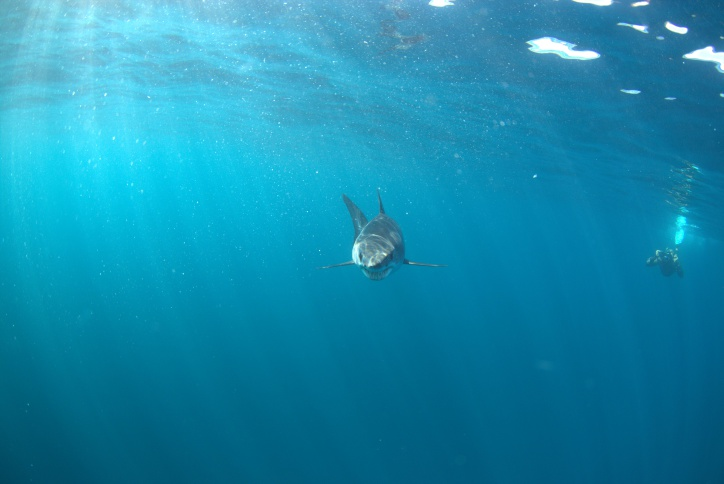Mako: (317, 176, 448, 292)
